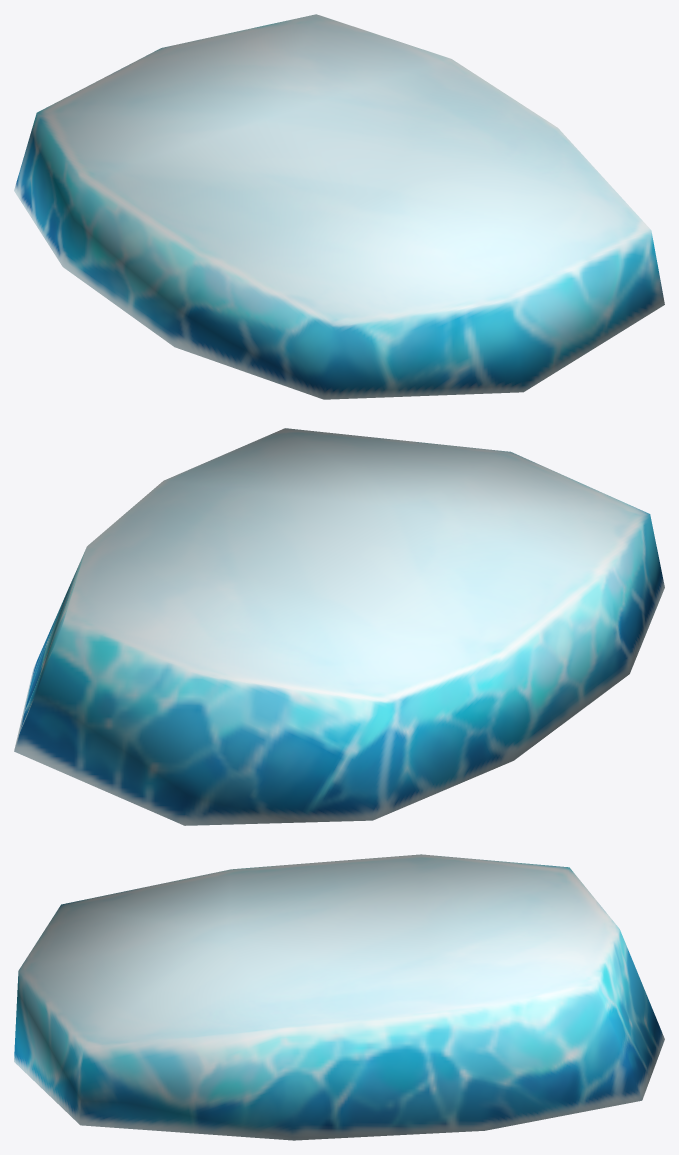
File: Ice_01_001.FBX
3 renders of one model, top to bottom at view 1: azimuth 30°, elevation 25°; view 2: azimuth 150°, elevation 25°; view 3: azimuth 270°, elevation 25°, orthographic. The views are drawn at different scales.
Visible parts, largest first — view 1: Ice_01_001; view 2: Ice_01_001; view 3: Ice_01_001.
Boxes of the visible parts, x1,y1,x2,y2 form: Ice_01_001: (14, 14, 664, 399); Ice_01_001: (14, 428, 664, 825); Ice_01_001: (14, 854, 664, 1140).
Size of the model in its own units: 5.89 by 1.78 by 7.88.
